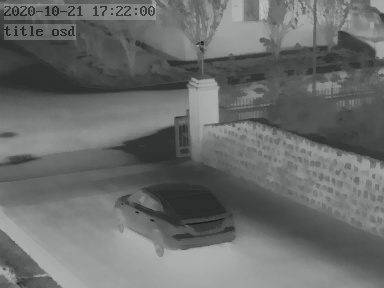vehicle: (113, 182, 237, 259)
